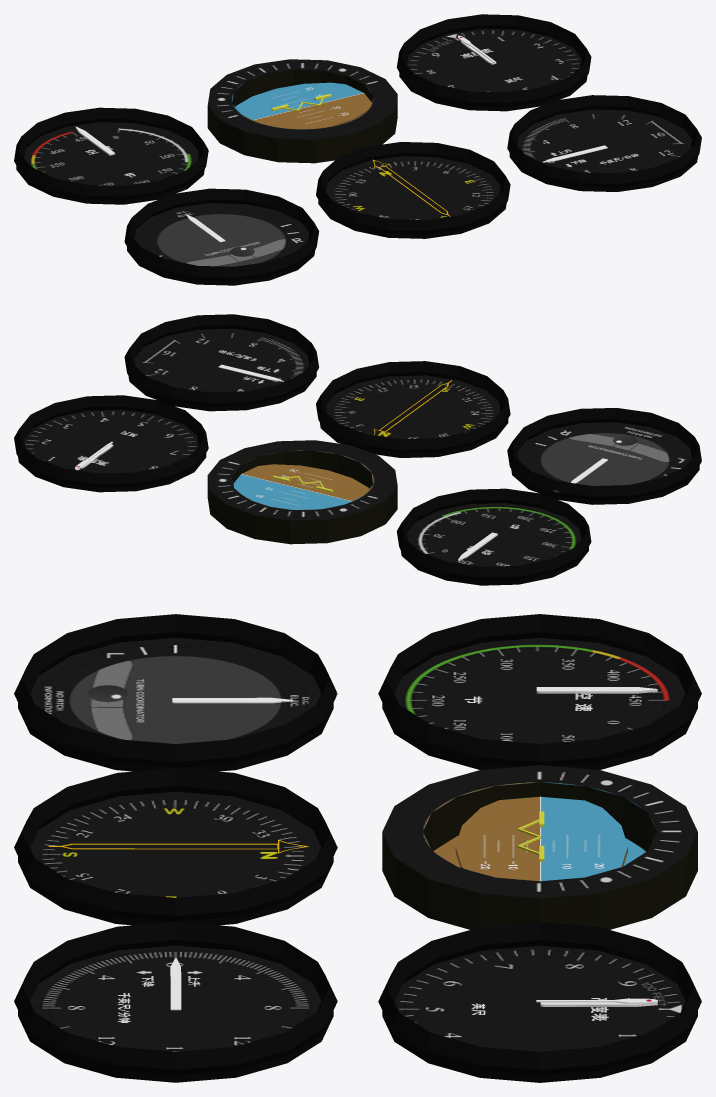
File: IndicatorBody.fbx
3 views of the same model, one above another, from view 1: azimuth 30°, elevation 25°; view 2: azimuth 150°, elevation 25°; view 3: azimuth 270°, elevation 25° (orthographic). The views are drawn at different scales.
Parts seen in each view (by area): view 1: CPS_case, VSI_case, AS_case, ALT_case, TRN_case, AHI_case, AHI_course; view 2: CPS_case, VSI_case, AS_case, ALT_case, TRN_case, AHI_case, AHI_course; view 3: CPS_case, VSI_case, ALT_case, AS_case, TRN_case, AHI_case, AHI_course, CPS_pointer, AS_pointer.
Boxes of the visible parts, box(x1,y1,x2,y2) form: CPS_case: box(316, 142, 510, 238); VSI_case: box(507, 95, 701, 191); AS_case: box(14, 107, 208, 204); ALT_case: box(396, 14, 591, 111); TRN_case: box(124, 188, 319, 285); AHI_case: box(207, 59, 397, 163); AHI_course: box(235, 82, 371, 128); CPS_case: box(316, 361, 510, 457); VSI_case: box(124, 314, 319, 411); AS_case: box(396, 488, 591, 585); ALT_case: box(14, 395, 208, 492); TRN_case: box(507, 408, 701, 504); AHI_case: box(207, 440, 397, 544); AHI_course: box(233, 464, 368, 509); CPS_case: box(14, 768, 337, 925); VSI_case: box(14, 921, 337, 1082); ALT_case: box(378, 922, 701, 1082); AS_case: box(378, 614, 701, 769); TRN_case: box(14, 614, 337, 771); AHI_case: box(382, 765, 697, 929); AHI_course: box(455, 796, 627, 881); CPS_pointer: box(48, 839, 308, 853); AS_pointer: box(536, 687, 657, 693).
Bounding box in the file's own units: 52 × 2.14 × 34.
1 material, 1 textured.
